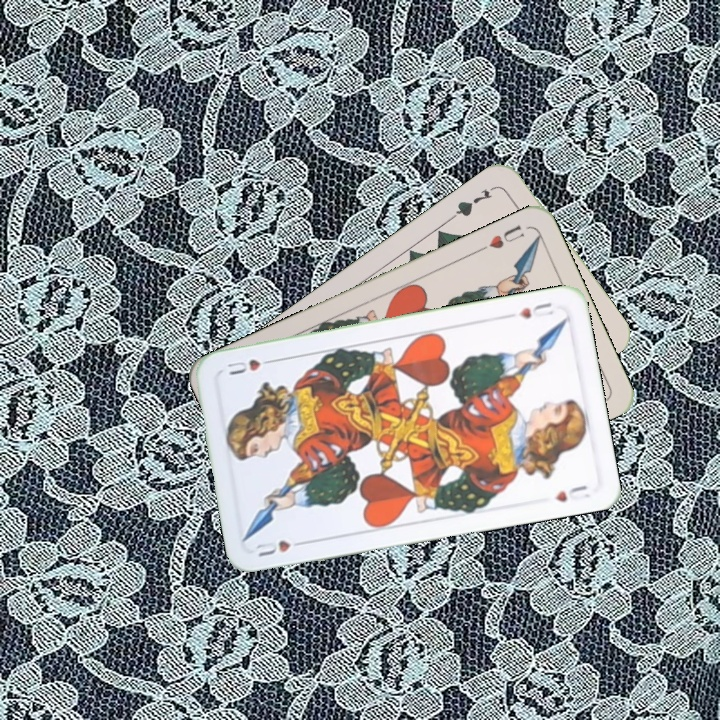G7: (448, 181, 500, 222)
HU: (475, 221, 528, 254), (251, 536, 309, 559), (503, 298, 557, 321)
